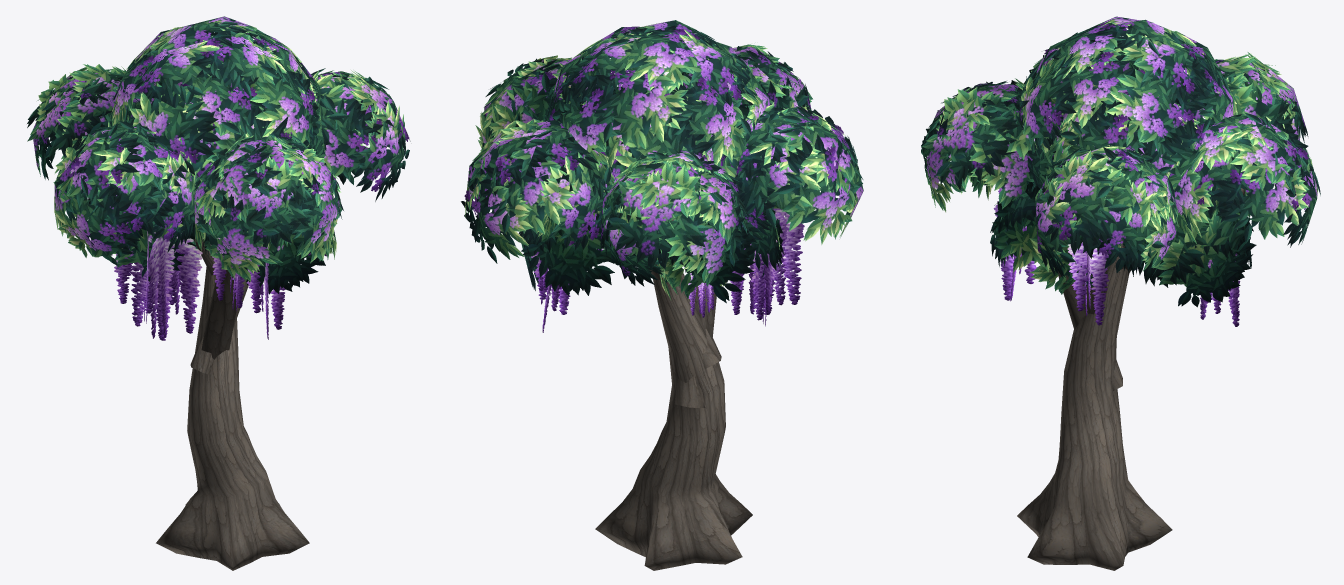
File: tree_bloom_giant.glb
The picture shows the model from 3 angles, left to right: view 1: azimuth 30°, elevation 25°; view 2: azimuth 150°, elevation 25°; view 3: azimuth 270°, elevation 25°; orthographic projection. The views are drawn at different scales.
Visible parts, largest first — view 1: tree_bloom_giant; view 2: tree_bloom_giant; view 3: tree_bloom_giant.
Part boxes in pixels (bbox=[...]): tree_bloom_giant: bbox=[27, 16, 410, 570]; tree_bloom_giant: bbox=[461, 20, 863, 570]; tree_bloom_giant: bbox=[921, 16, 1320, 570].
Bounding box in the file's own units: 15.25 × 20.66 × 15.15.
2 materials, 2 textured.
